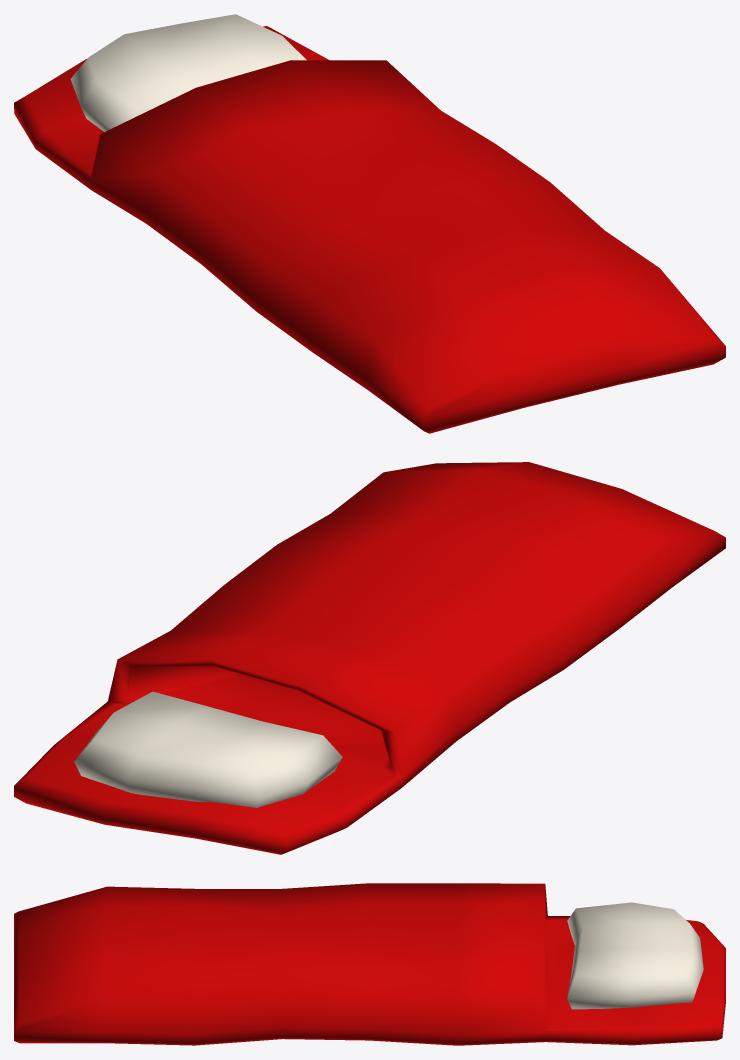
Rendered from BagBed_01.fbx.
3 renders of one model, top to bottom at view 1: azimuth 30°, elevation 25°; view 2: azimuth 150°, elevation 25°; view 3: azimuth 270°, elevation 25°, orthographic. The views are drawn at different scales.
Visible parts, largest first — view 1: BagBed_01; view 2: BagBed_01; view 3: BagBed_01.
Part boxes in pixels (<box>): BagBed_01: <box>14,14,725,433</box>; BagBed_01: <box>14,462,725,854</box>; BagBed_01: <box>14,883,725,1045</box>.
Bounding box in the file's own units: 81.45 × 23.03 × 206.
